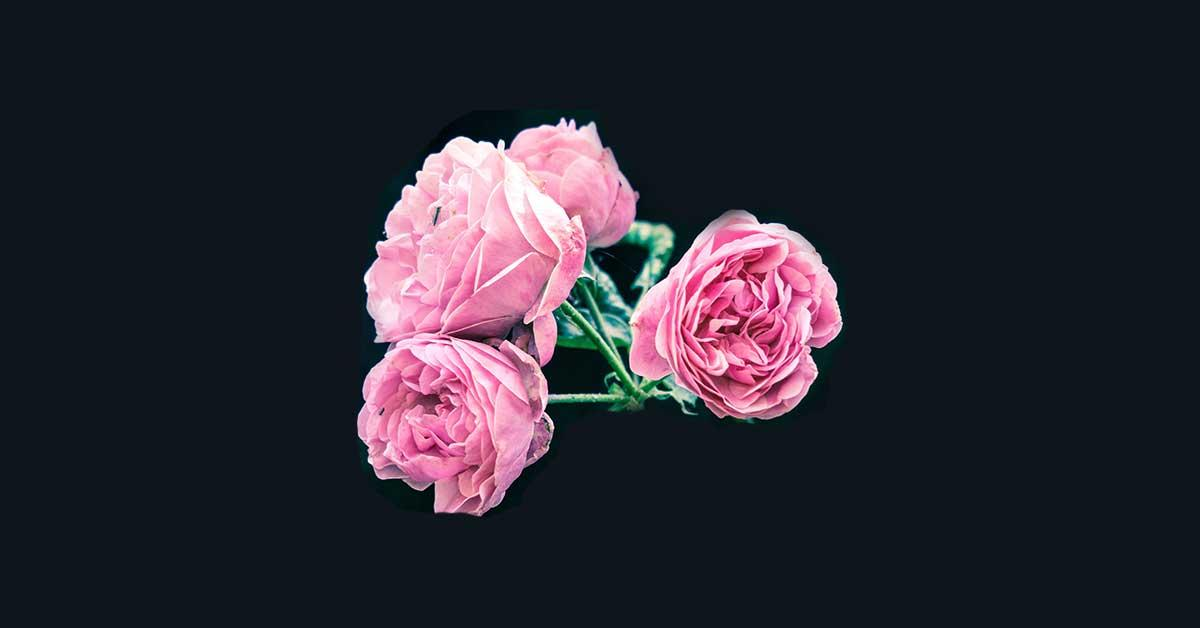Rose: (627, 199, 845, 434), (343, 152, 591, 343), (346, 330, 553, 522), (493, 100, 647, 238)
